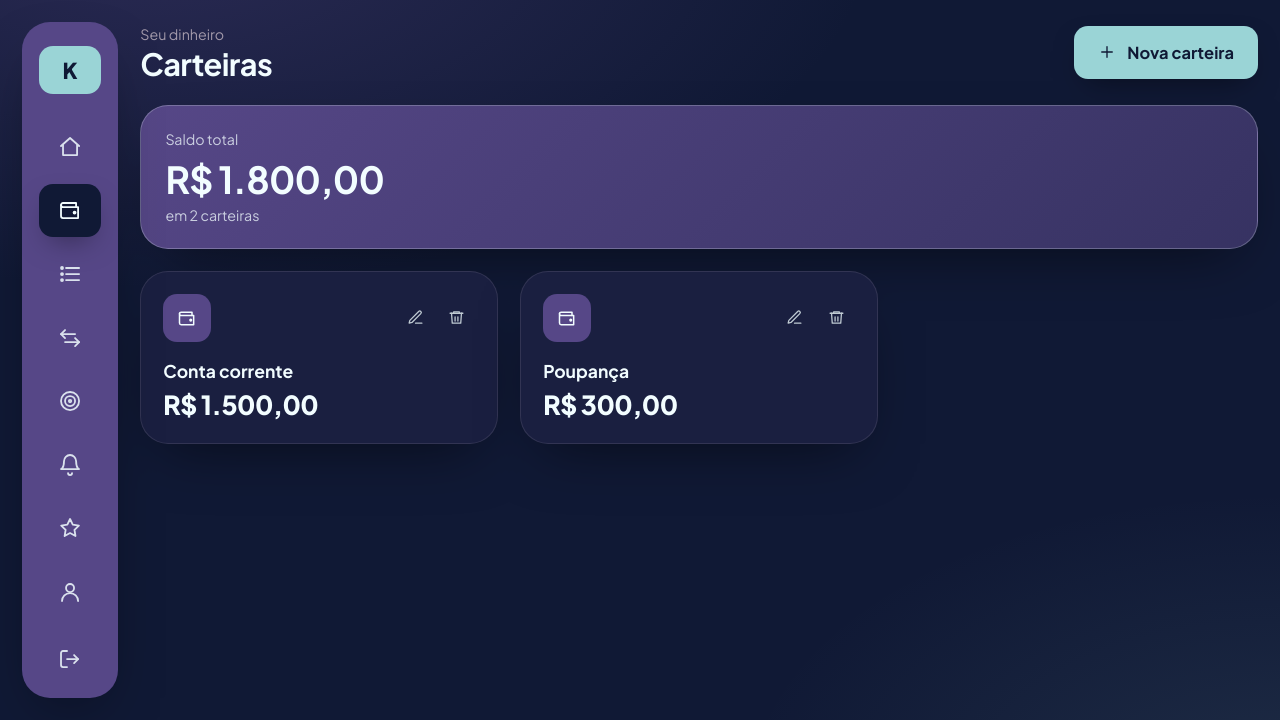
Test case: carteiras › exclui só depois de confirmar
Expected: the text "Poupança" is shown, [543,360,629,382]
Click the button named "Excluir Poupança".
click(837, 318)  # box [818,299,855,337]
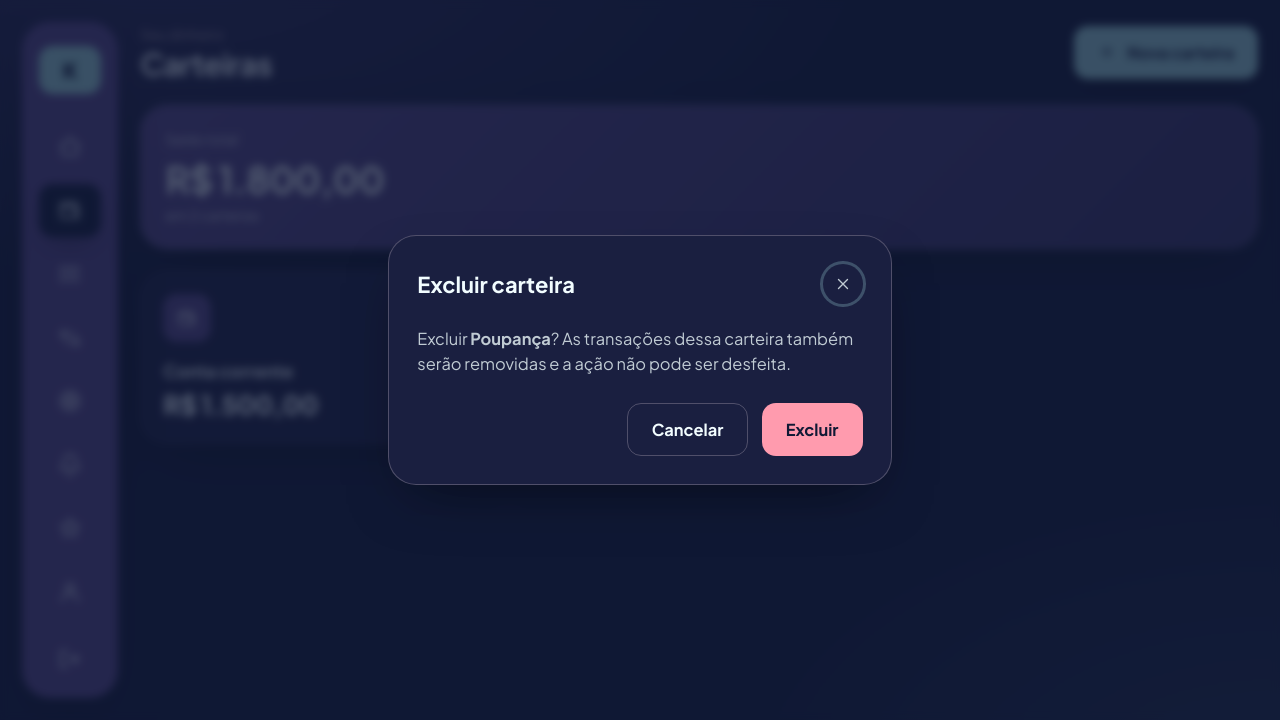
Click the button "Excluir".
click(812, 429)  # box [762,403,863,456]
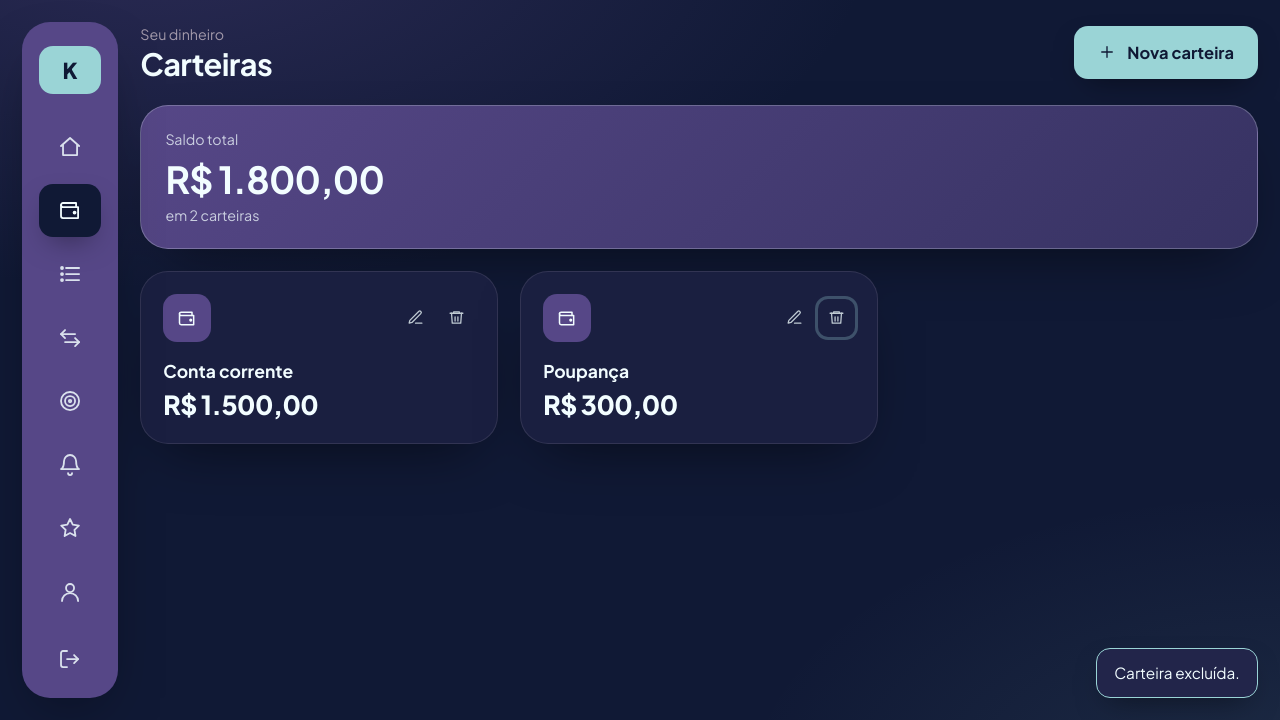
Now the text "Carteira excluída." is shown, box [1096,648,1258,698]
